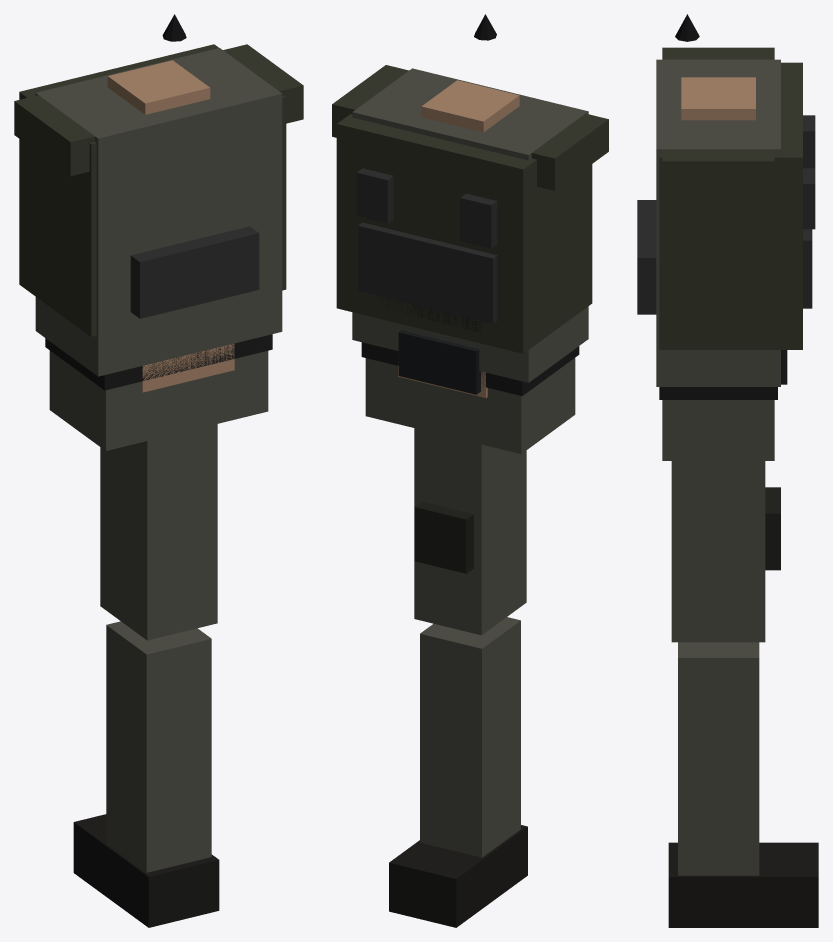
The model's file is operator_recruit.glb.
The picture shows the model from 3 angles, left to right: view 1: azimuth 30°, elevation 25°; view 2: azimuth 150°, elevation 25°; view 3: azimuth 270°, elevation 25°; orthographic projection. The views are drawn at different scales.
Visible parts, largest first — view 1: torso, legL, hips, head; view 2: torso, legL, hips, head; view 3: torso, legL, hips, head.
Part boxes in pixels (x1,y1,x2,y2): torso: (14,14,303,376); legL: (73,424,219,927); hips: (45,334,272,450); head: (130,226,259,392); torso: (332,14,608,382); legL: (389,428,527,927); hips: (361,342,579,453); head: (379,296,487,397); torso: (656,14,815,386); legL: (668,461,818,927); hips: (659,387,777,460); head: (637,200,787,384).
Bounding box in the file's own units: 0.43 × 1.58 × 0.29.
